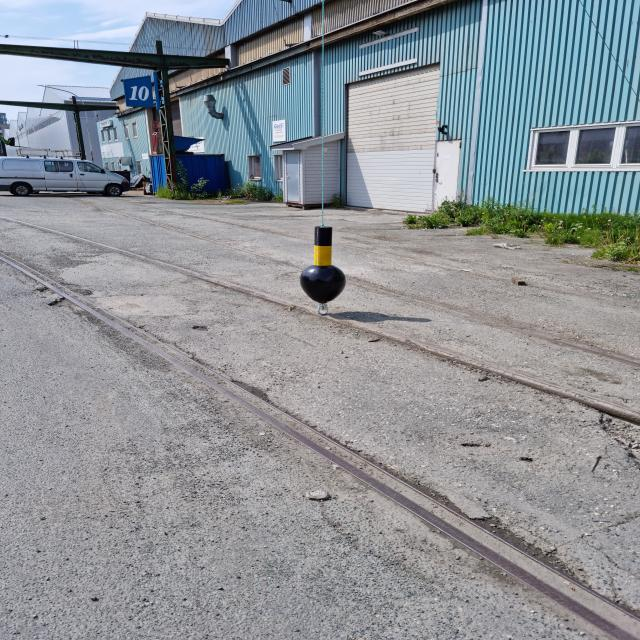east: (302, 226, 347, 303)
